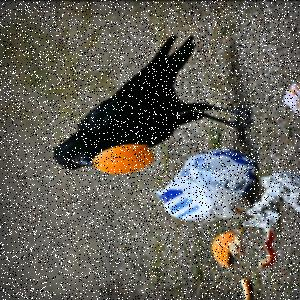Trash: (155, 149, 261, 224)
